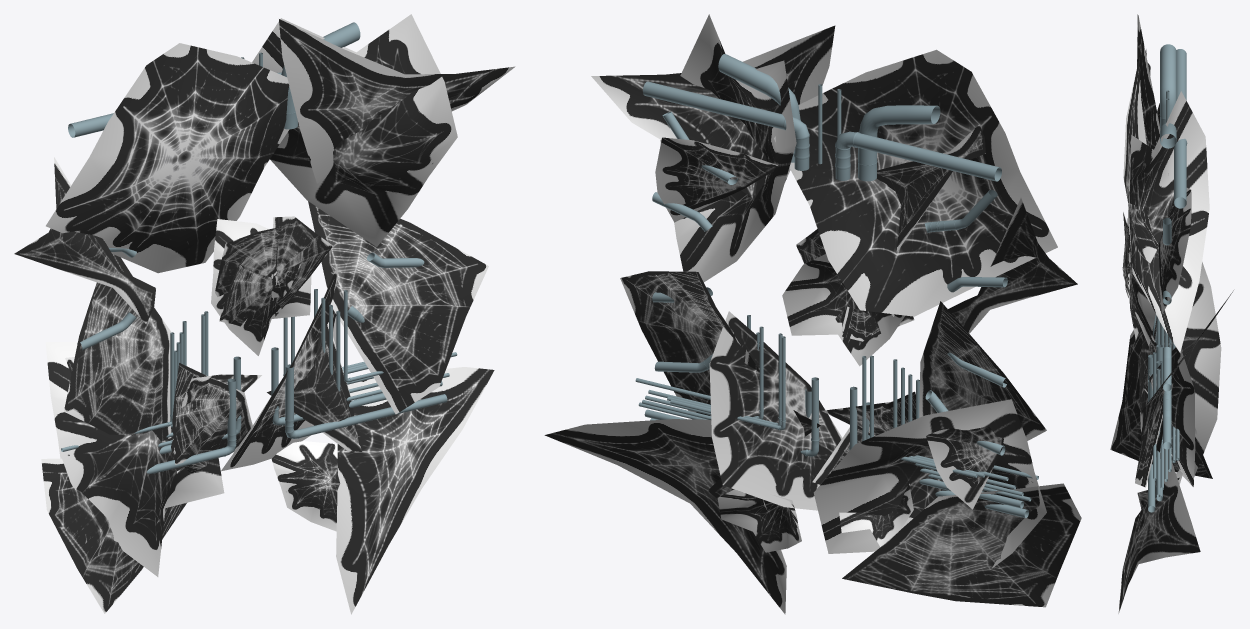
The model's file is BossPipesWeb.fbx.
3 views of the same model, side by side, from view 1: azimuth 30°, elevation 25°; view 2: azimuth 150°, elevation 25°; view 3: azimuth 270°, elevation 25° (orthographic). The views are drawn at different scales.
Visible parts, largest first — view 1: Web_Small_18, Web_Small_12, Web_Small_16, Web_Small_9, Web_Small_10, Web_Small_17, Boss_Pipes, Web_Small_8, Web_Small_20, Web_Small_24, Web_Small_5, Web_Small_7 (+7 smaller); view 2: Web_Small_18, Boss_Pipes, Web_Small_20, Web_Small_6, Web_Small_10, Web_Small_9, Web_Small_16, Web_Small_17, Web_Small_12, Web_Small_8, Web_Small_14, Web_Small_21 (+8 smaller); view 3: Web_Small_16, Boss_Pipes, Web_Small_10, Web_Small_9, Web_Small_20, Web_Small_6, Web_Small_17, Web_Small_14, Web_Small_12, Web_Small_18, Web_Small_21, Web_Small_25 (+1 smaller).
Boxes of the visible parts, x1,y1,x2,y2 form: Web_Small_18: [46, 43, 289, 273]; Web_Small_12: [308, 201, 488, 414]; Web_Small_16: [252, 14, 457, 246]; Web_Small_9: [336, 367, 494, 614]; Web_Small_10: [45, 342, 224, 576]; Web_Small_17: [279, 19, 515, 183]; Boss_Pipes: [61, 22, 457, 473]; Web_Small_8: [64, 254, 171, 441]; Web_Small_20: [41, 458, 186, 613]; Web_Small_24: [14, 157, 156, 323]; Web_Small_5: [172, 363, 252, 464]; Web_Small_7: [271, 441, 340, 531]; Web_Small_18: [774, 49, 1057, 316]; Boss_Pipes: [635, 54, 1038, 517]; Web_Small_20: [842, 483, 1081, 607]; Web_Small_6: [709, 311, 842, 510]; Web_Small_10: [813, 399, 1046, 568]; Web_Small_9: [544, 419, 786, 614]; Web_Small_16: [660, 14, 796, 282]; Web_Small_17: [591, 25, 835, 198]; Web_Small_12: [620, 271, 740, 415]; Web_Small_8: [919, 301, 1046, 471]; Web_Small_14: [655, 137, 777, 222]; Web_Small_21: [782, 254, 904, 366]; Web_Small_16: [1127, 91, 1209, 352]; Boss_Pipes: [1147, 44, 1187, 512]; Web_Small_10: [1139, 262, 1221, 476]; Web_Small_9: [1118, 444, 1200, 613]; Web_Small_20: [1110, 328, 1212, 478]; Web_Small_6: [1149, 347, 1195, 486]; Web_Small_17: [1123, 60, 1158, 263]; Web_Small_14: [1159, 188, 1191, 313]; Web_Small_12: [1135, 290, 1233, 487]; Web_Small_18: [1137, 14, 1168, 175]; Web_Small_21: [1129, 261, 1155, 346]; Web_Small_25: [1123, 236, 1135, 311].
Bounding box in the file's own units: 2030 × 2326 × 499.
